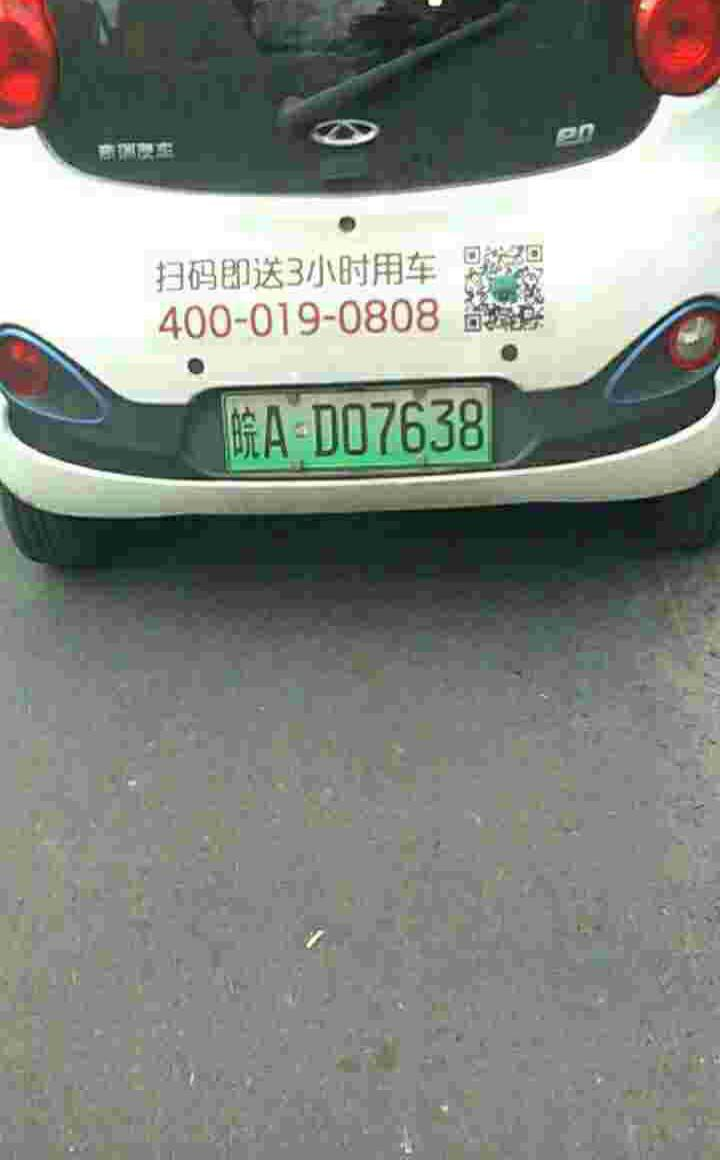car_id: (221, 387, 491, 469)
